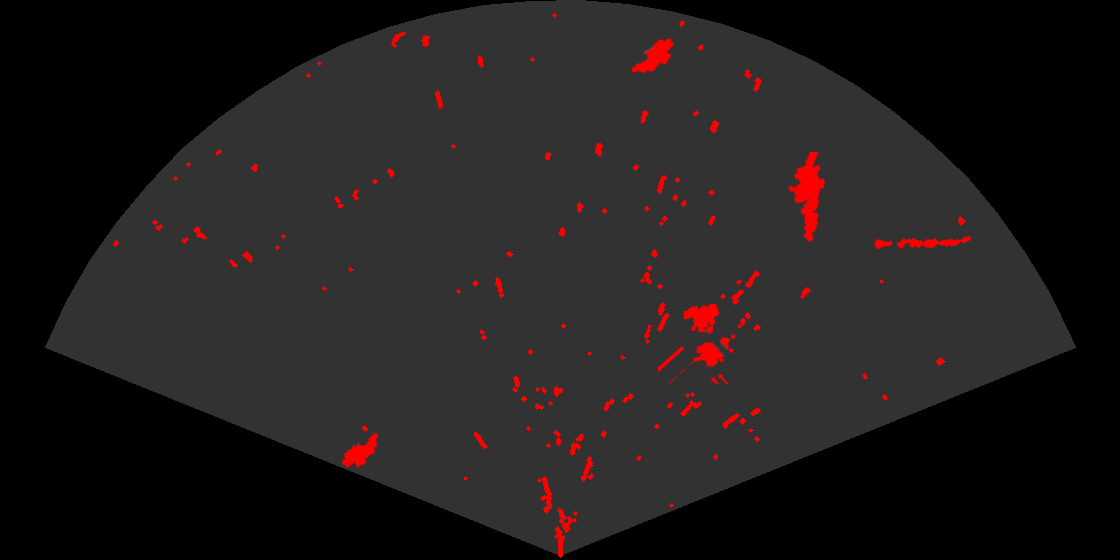AUV: (629, 36, 676, 75), (340, 432, 380, 469)
cage: (658, 302, 737, 384)
chain: (873, 235, 973, 251)
frogman: (786, 152, 827, 244)
